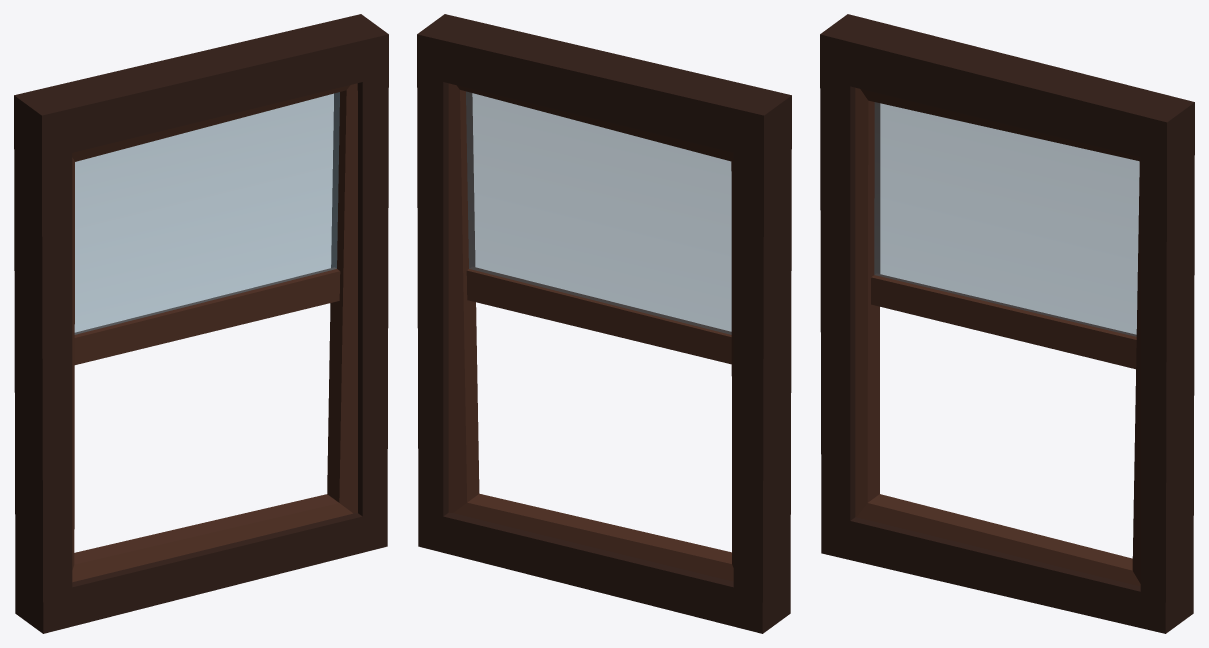
File: Window 1x2 Open.glb
3 renders of one model, left to right at view 1: azimuth 30°, elevation 25°; view 2: azimuth 150°, elevation 25°; view 3: azimuth 330°, elevation 25°, orthographic.
Parts seen in each view (by area): view 1: Window 1x2 Open; view 2: Window 1x2 Open; view 3: Window 1x2 Open.
Part boxes in pixels (x1,y1,x2,y2): Window 1x2 Open: (14,14,388,633); Window 1x2 Open: (417,14,791,633); Window 1x2 Open: (820,14,1194,633).
Bounding box in the file's own units: 1.15 × 1.65 × 0.16.
Materials: 2 (2 with a texture image).
